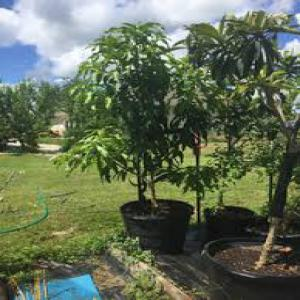Tree: (73, 14, 204, 248)
